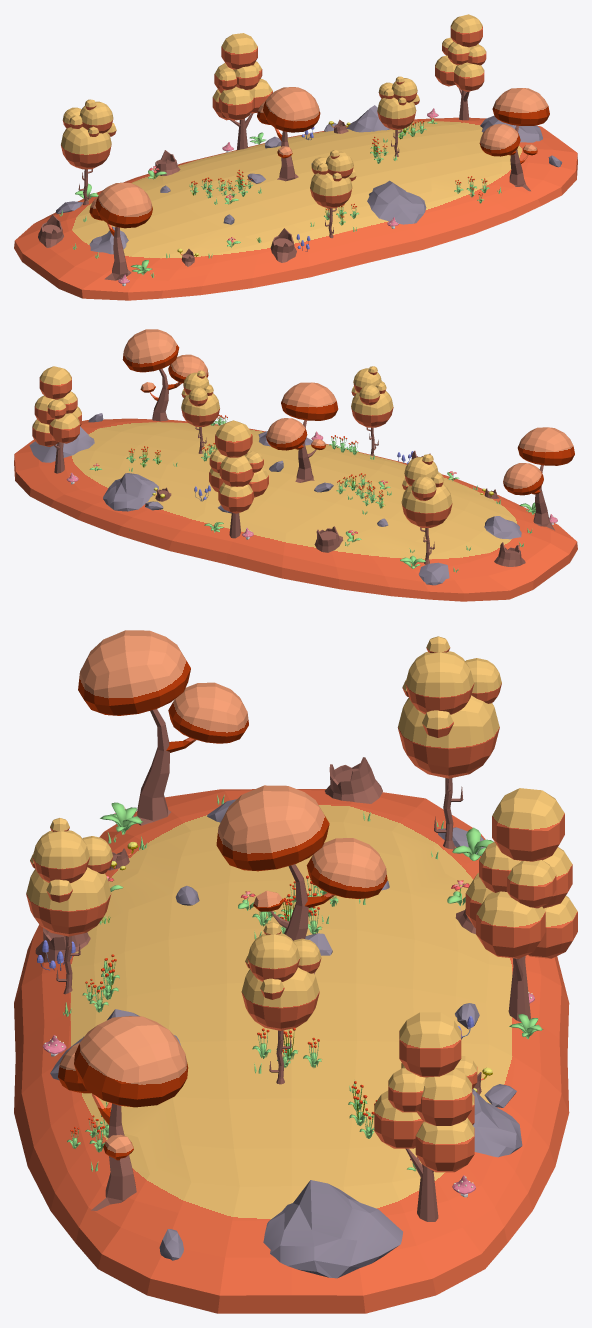
Rendered from Autumn_wall.fbx.
3 renders of one model, top to bottom at view 1: azimuth 30°, elevation 25°; view 2: azimuth 150°, elevation 25°; view 3: azimuth 270°, elevation 25°, orthographic. The views are drawn at different scales.
Parts seen in each view (by area): view 1: Tree.203; view 2: Tree.203; view 3: Tree.203.
Part boxes in pixels (bbox=[...]): Tree.203: bbox=[14, 14, 577, 300]; Tree.203: bbox=[14, 329, 577, 601]; Tree.203: bbox=[14, 630, 577, 1313].
Size of the model in its own units: 6325 by 1548 by 2978.
